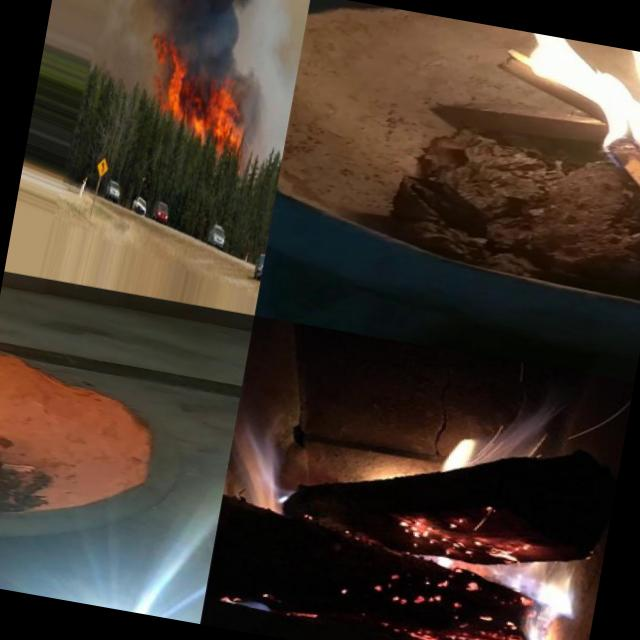fire: (416, 17, 640, 221), (458, 382, 552, 482), (485, 545, 583, 640), (222, 412, 308, 510), (141, 32, 192, 106), (200, 88, 250, 146)
smoke: (184, 0, 263, 94), (135, 0, 203, 38), (178, 84, 210, 121)
